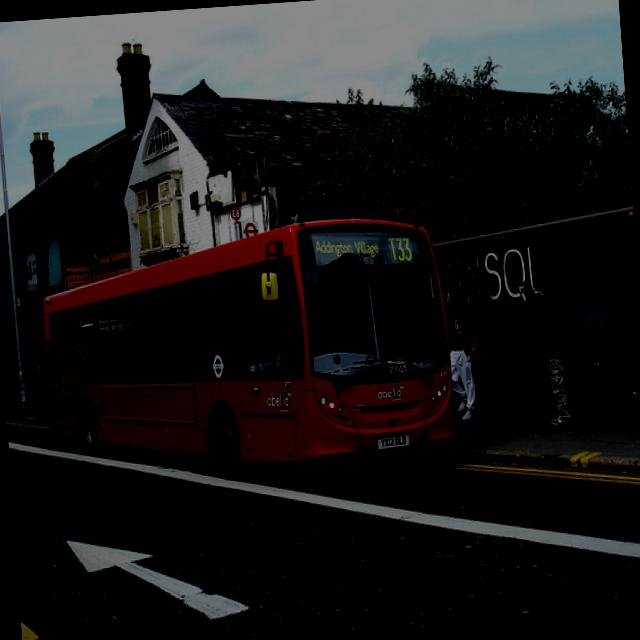Vehicle: (34, 212, 459, 492)
